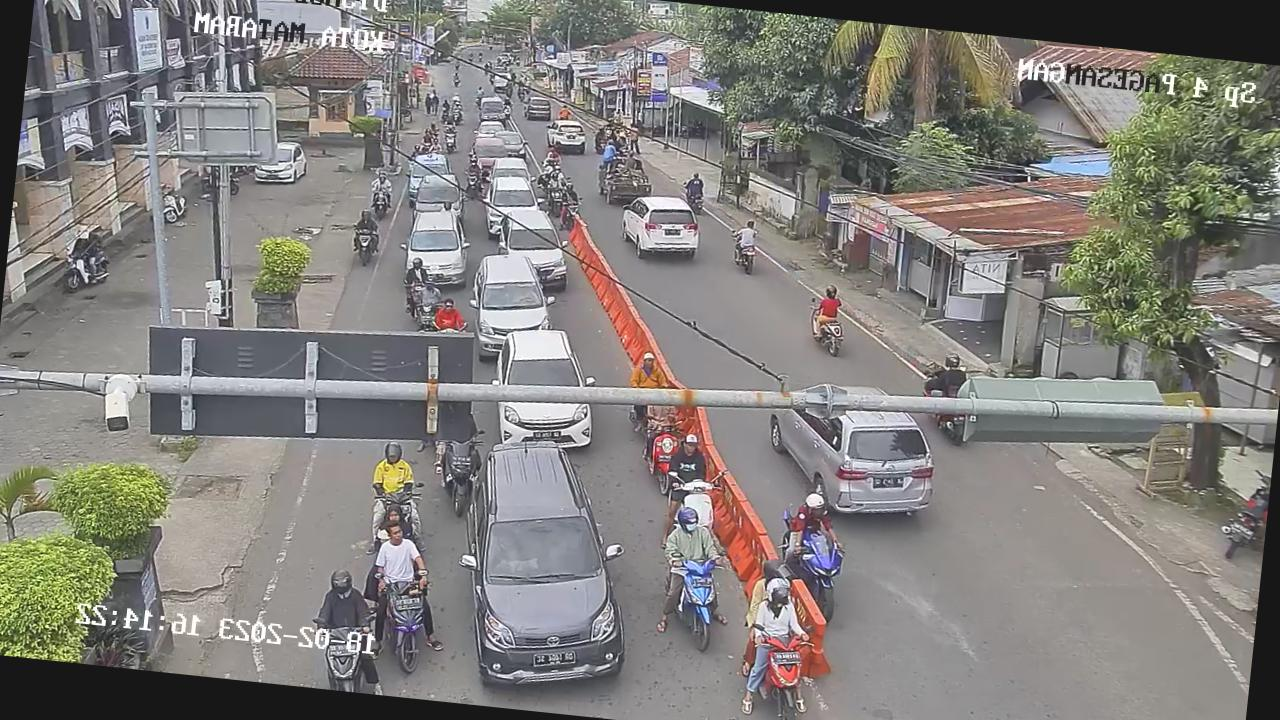car: (446, 422, 650, 702), (761, 373, 943, 520), (485, 318, 603, 461), (462, 248, 562, 372), (490, 206, 572, 290), (396, 204, 476, 289), (616, 192, 706, 266), (480, 172, 548, 243), (253, 134, 314, 188), (411, 165, 468, 221), (404, 149, 456, 209), (543, 114, 590, 156), (488, 152, 536, 188), (471, 134, 512, 174), (494, 130, 530, 160), (476, 96, 508, 127), (520, 93, 555, 120), (476, 116, 509, 140)
motorbike: (652, 540, 742, 659), (744, 617, 831, 720), (364, 569, 440, 676), (307, 604, 383, 694), (785, 528, 852, 620), (662, 460, 736, 540), (432, 424, 492, 517), (638, 412, 692, 498), (367, 470, 425, 540), (348, 224, 384, 270), (410, 298, 444, 336), (400, 277, 429, 317), (558, 193, 584, 232), (367, 183, 395, 219), (543, 184, 568, 220), (464, 167, 486, 198), (442, 130, 461, 154), (501, 99, 516, 120), (438, 108, 452, 126)
person: (373, 509, 438, 592), (665, 503, 733, 574), (748, 574, 813, 648), (783, 487, 849, 556), (666, 421, 726, 495), (368, 432, 427, 507), (626, 341, 680, 400), (924, 343, 978, 399), (810, 276, 848, 324), (729, 212, 765, 262), (434, 296, 468, 333), (681, 164, 713, 201), (402, 256, 432, 288), (417, 276, 444, 308), (354, 204, 382, 233), (562, 176, 588, 207), (370, 167, 396, 194), (463, 154, 486, 176), (546, 168, 566, 193), (444, 121, 461, 138), (429, 136, 445, 154), (420, 126, 436, 144), (502, 94, 516, 110), (410, 142, 424, 158), (439, 97, 452, 112), (429, 119, 442, 133), (316, 565, 319, 571)
truck: (596, 148, 656, 204)
